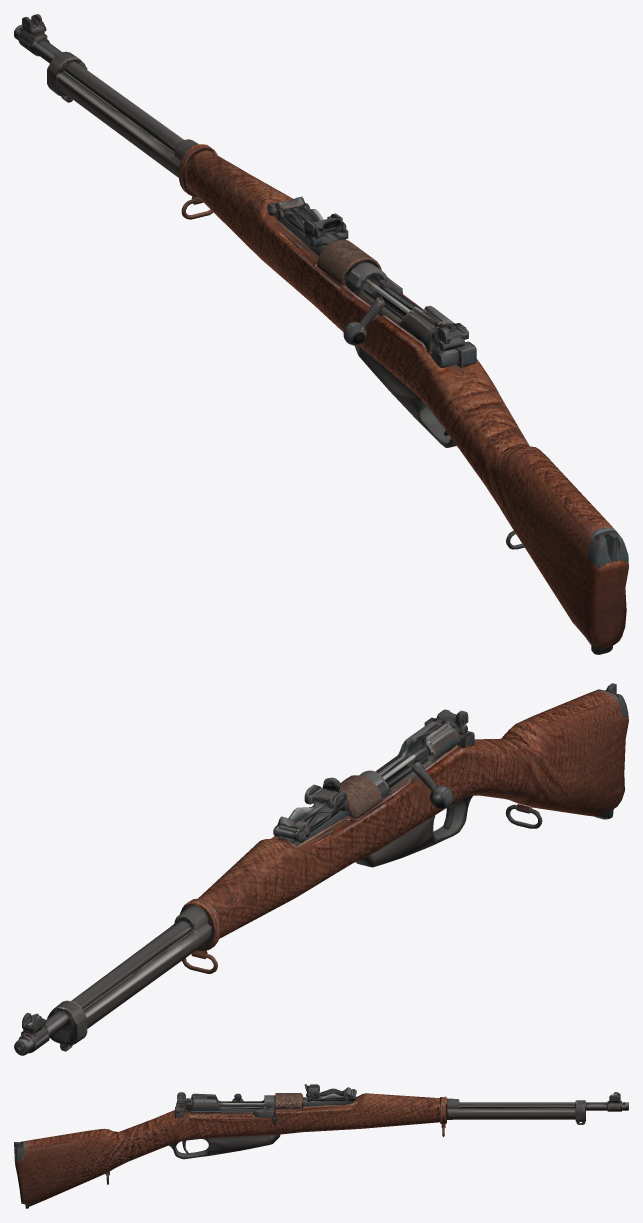
File: ProvidedRifle.glb
3 views of the same model, one above another, from view 1: azimuth 30°, elevation 25°; view 2: azimuth 150°, elevation 25°; view 3: azimuth 270°, elevation 25° (orthographic). The views are drawn at different scales.
Parts seen in each view (by area): view 1: ProvidedRifleMesh; view 2: ProvidedRifleMesh; view 3: ProvidedRifleMesh.
Part boxes in pixels (bbox=[...]): ProvidedRifleMesh: bbox=[14, 14, 628, 654]; ProvidedRifleMesh: bbox=[14, 683, 628, 1055]; ProvidedRifleMesh: bbox=[14, 1084, 628, 1208].
Size of the model in its own units: 0.0786 by 0.2202 by 0.9995.
1 material, 1 textured.
